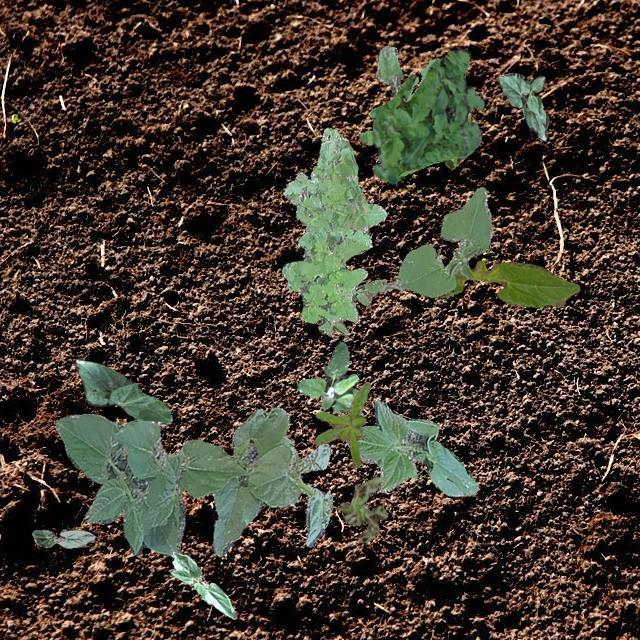crop: (55, 406, 332, 556), (346, 400, 478, 496), (393, 186, 492, 296), (74, 356, 170, 426), (438, 260, 578, 306), (170, 550, 236, 618), (496, 72, 548, 140), (444, 110, 474, 168), (376, 44, 402, 98), (31, 528, 94, 548)
weed: (280, 126, 386, 322), (358, 48, 482, 182), (317, 278, 403, 334), (314, 381, 369, 466), (296, 340, 358, 412), (336, 476, 386, 542)
